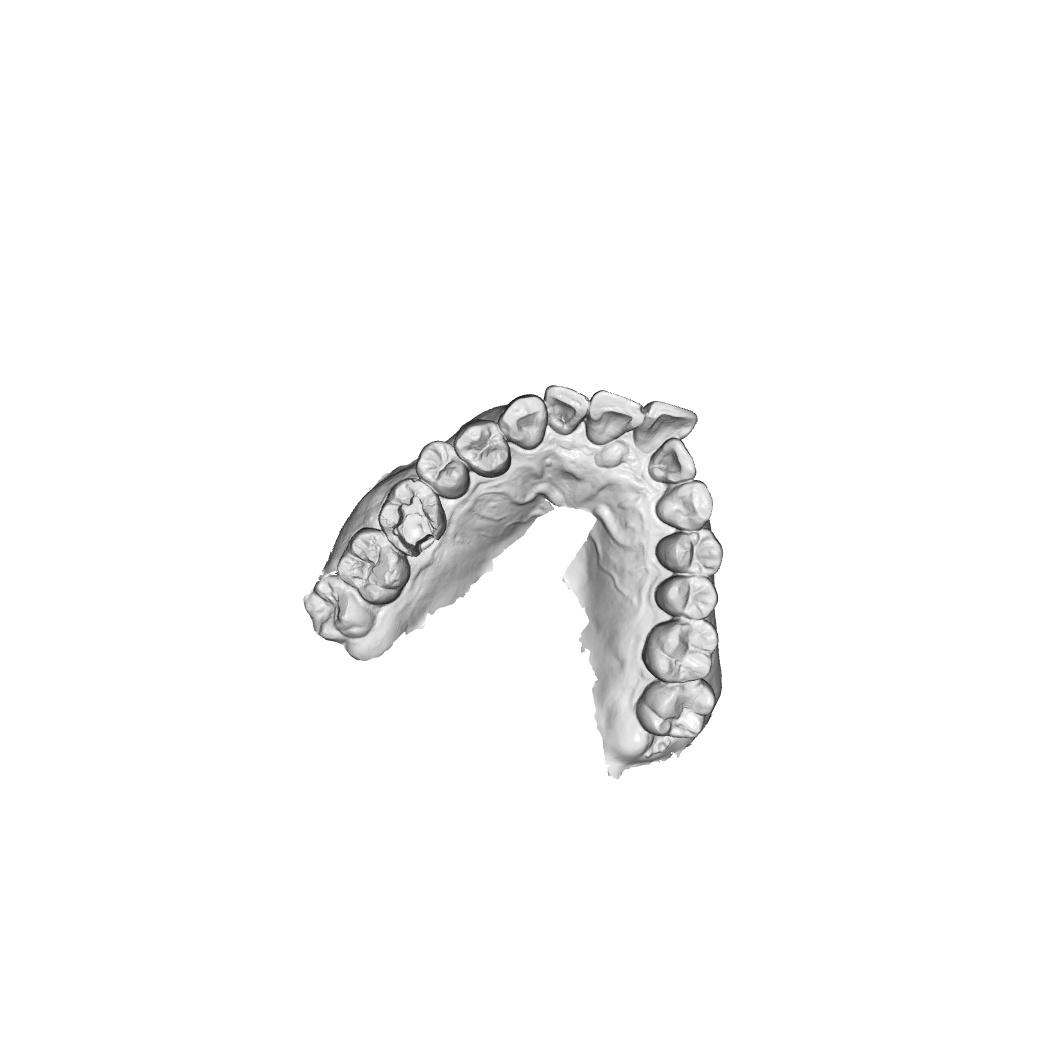canine: (654, 479, 714, 532), (497, 393, 548, 451)
incisor: (632, 400, 699, 455), (584, 389, 646, 446), (542, 384, 591, 437), (647, 437, 698, 486)
inlay: (389, 492, 441, 556)
molar: (335, 526, 411, 606), (301, 569, 377, 645), (634, 677, 718, 740), (640, 618, 719, 684)
premolar: (654, 528, 726, 578), (453, 419, 512, 479), (415, 440, 472, 500), (653, 575, 718, 620)
